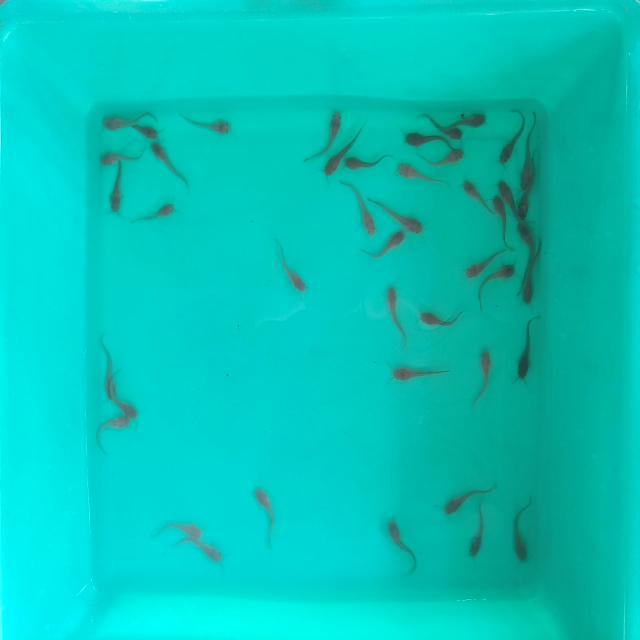lele: (303, 100, 352, 172), (320, 116, 373, 182), (366, 192, 429, 238), (340, 178, 382, 236), (147, 138, 192, 192), (272, 233, 311, 294), (442, 480, 500, 520), (387, 517, 423, 571), (392, 161, 448, 190), (179, 111, 235, 138), (469, 350, 494, 410), (106, 387, 144, 424), (185, 536, 228, 567), (372, 230, 409, 264), (517, 320, 537, 382), (461, 247, 500, 277), (498, 111, 520, 164), (256, 488, 276, 546), (514, 500, 532, 564), (98, 416, 128, 454), (466, 500, 486, 556), (462, 176, 488, 216), (100, 338, 117, 399), (387, 285, 406, 338), (418, 307, 467, 327), (402, 134, 456, 152), (132, 201, 176, 223), (516, 223, 541, 260), (390, 364, 450, 379), (154, 520, 203, 538), (520, 261, 540, 305), (98, 148, 144, 167), (109, 166, 127, 214), (425, 112, 459, 136), (344, 152, 389, 170), (492, 196, 507, 245), (420, 148, 464, 164), (489, 263, 519, 286), (131, 116, 162, 137), (520, 137, 532, 190), (498, 175, 515, 211), (518, 188, 537, 220), (459, 112, 491, 130), (100, 116, 128, 134)
